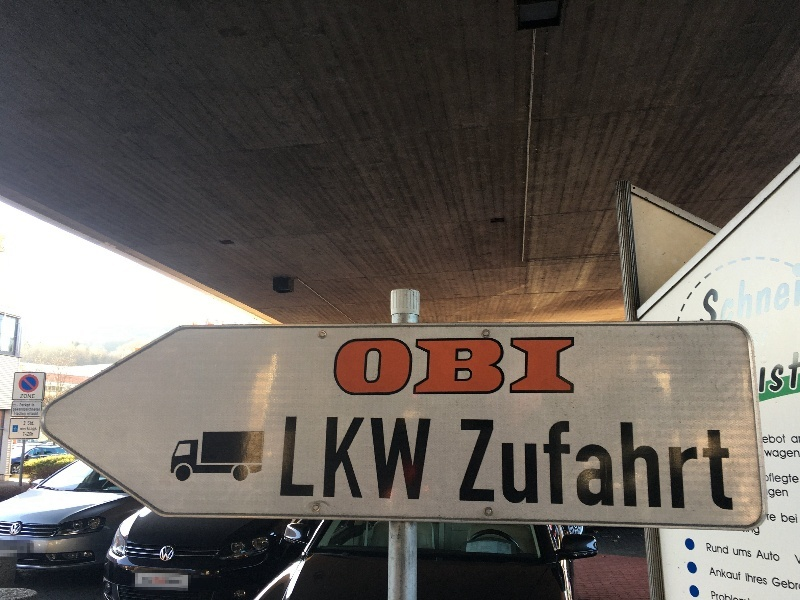text: (465, 419, 480, 512), (481, 419, 496, 512), (497, 419, 512, 512), (513, 419, 528, 512), (529, 419, 544, 512), (545, 419, 560, 512), (561, 419, 576, 512), (577, 419, 592, 512), (593, 419, 608, 512), (609, 419, 624, 512), (625, 419, 640, 512), (641, 419, 656, 512), (657, 419, 672, 512), (673, 419, 688, 512), (689, 419, 704, 512), (705, 419, 720, 512), (289, 416, 304, 501), (305, 416, 320, 501), (321, 416, 336, 501), (337, 416, 352, 501), (353, 416, 368, 501), (369, 416, 384, 501), (385, 416, 400, 501), (401, 416, 416, 501), (721, 419, 734, 512), (417, 416, 431, 501), (337, 337, 352, 397), (353, 337, 368, 397), (369, 337, 384, 397), (385, 337, 400, 397), (401, 337, 416, 397), (417, 337, 432, 397), (433, 337, 448, 397), (449, 337, 464, 397), (465, 337, 480, 397), (481, 337, 496, 397), (497, 337, 512, 397), (513, 337, 528, 397), (529, 337, 544, 397), (545, 337, 560, 397), (721, 264, 736, 324), (737, 264, 752, 324), (753, 264, 768, 324), (769, 264, 784, 324), (785, 264, 800, 324), (561, 337, 575, 397), (707, 264, 720, 324), (769, 352, 784, 394), (785, 352, 800, 394), (760, 352, 768, 394), (461, 419, 464, 512), (285, 416, 288, 501), (785, 577, 800, 591), (769, 473, 784, 486), (721, 568, 736, 581), (785, 473, 799, 486), (706, 543, 720, 555), (753, 573, 767, 585), (772, 577, 784, 591), (769, 434, 784, 444), (769, 450, 784, 460), (785, 450, 800, 460), (785, 513, 798, 524), (769, 489, 784, 498), (737, 549, 752, 558), (721, 591, 736, 600), (769, 550, 780, 562), (758, 550, 768, 562), (737, 591, 750, 600), (712, 568, 720, 581), (741, 527, 752, 536), (721, 543, 729, 555), (745, 573, 752, 585), (711, 591, 720, 600), (21, 426, 32, 432), (791, 437, 800, 444), (769, 513, 776, 522), (753, 527, 760, 536), (335, 337, 336, 397), (762, 434, 768, 444), (17, 408, 32, 412), (21, 394, 32, 399), (794, 555, 800, 564), (737, 568, 741, 581), (20, 403, 32, 407), (764, 450, 768, 460), (765, 473, 768, 486), (23, 432, 32, 436), (781, 513, 784, 524), (33, 408, 41, 412), (24, 422, 32, 426), (785, 489, 788, 498), (733, 549, 736, 558), (17, 412, 26, 415), (27, 432, 32, 437), (33, 412, 39, 416), (33, 426, 37, 432), (28, 421, 32, 426), (766, 513, 768, 522), (28, 412, 32, 416), (33, 394, 36, 399), (25, 434, 32, 436), (13, 408, 16, 412), (785, 434, 786, 444), (33, 421, 35, 426), (33, 404, 35, 407), (14, 412, 16, 415), (33, 432, 34, 437)
